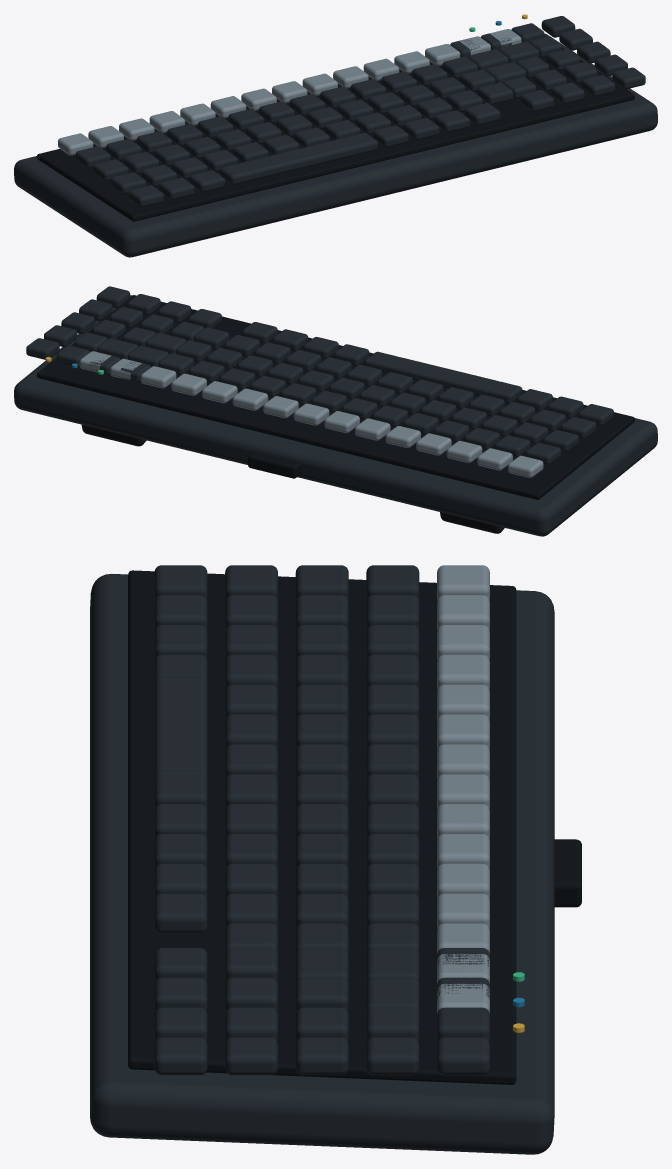
File: keyboard.glb
3 views of the same model, one above another, from view 1: azimuth 30°, elevation 25°; view 2: azimuth 150°, elevation 25°; view 3: azimuth 270°, elevation 25° (orthographic). The views are drawn at different scales.
Parts seen in each view (by area): view 1: Sculpted keycap (×64), Keyboard chassis, Keyboard key deck, Numeric keypad key (×15); view 2: Sculpted keycap (×64), Keyboard chassis, Keyboard key deck, Numeric keypad key (×15), Keyboard tilt foot (×2), USB-C port; view 3: Sculpted keycap (×68), Keyboard chassis, Keyboard key deck, Numeric keypad key (×15), USB-C port.
Boxes of the visible parts, x1,y1,x2,y2 form: Sculpted keycap (×64): (58,36,513,207); Keyboard chassis: (14,33,657,257); Keyboard key deck: (37,36,634,221); Numeric keypad key (×15): (503,16,645,111); Sculpted keycap (×64): (79,322,613,477); Keyboard chassis: (14,295,657,536); Keyboard key deck: (37,295,634,499); Numeric keypad key (×15): (26,286,221,366); Keyboard tilt foot (×2): (81,424,504,533); USB-C port: (248,451,301,478); Sculpted keycap (×68): (154,565,489,1014); Keyboard chassis: (90,574,554,1154); Keyboard key deck: (128,570,516,1084); Numeric keypad key (×15): (154,948,489,1075); USB-C port: (554,839,581,907).
Bounding box in the file's own units: 2.46 × 0.3122 × 0.9754.
